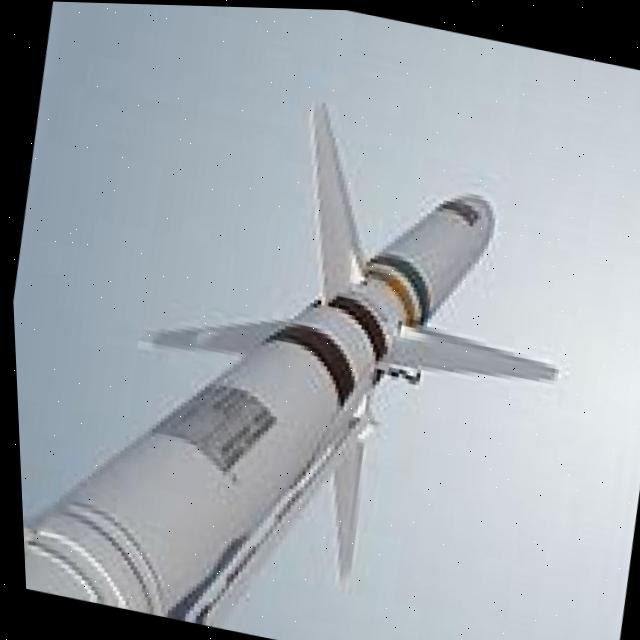missile: (2, 46, 602, 640)
